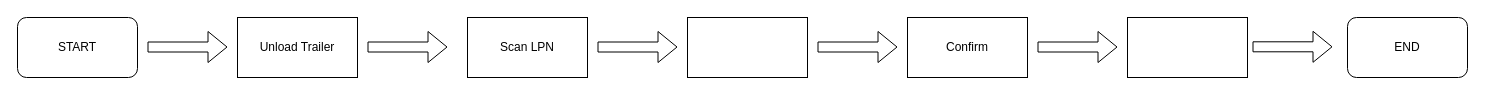
The diagram is 1485 pixels wide and 95 high, and some of its shapes have lost their labels. Each missing label, with the box of its shape:
System Immediately Accepts: (686, 16, 808, 78)
Update Inventory: (1126, 16, 1248, 78)
